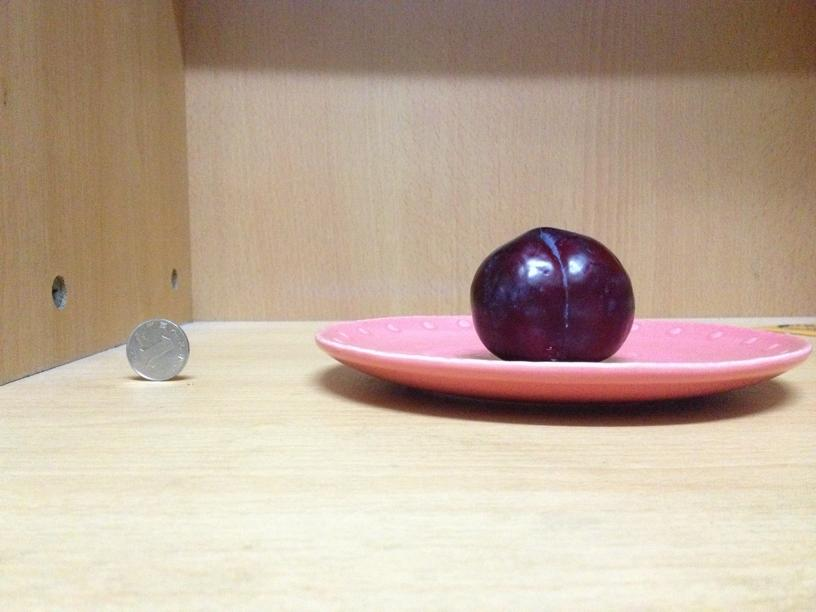coin: (118, 318, 190, 380)
plum: (471, 226, 634, 358)
